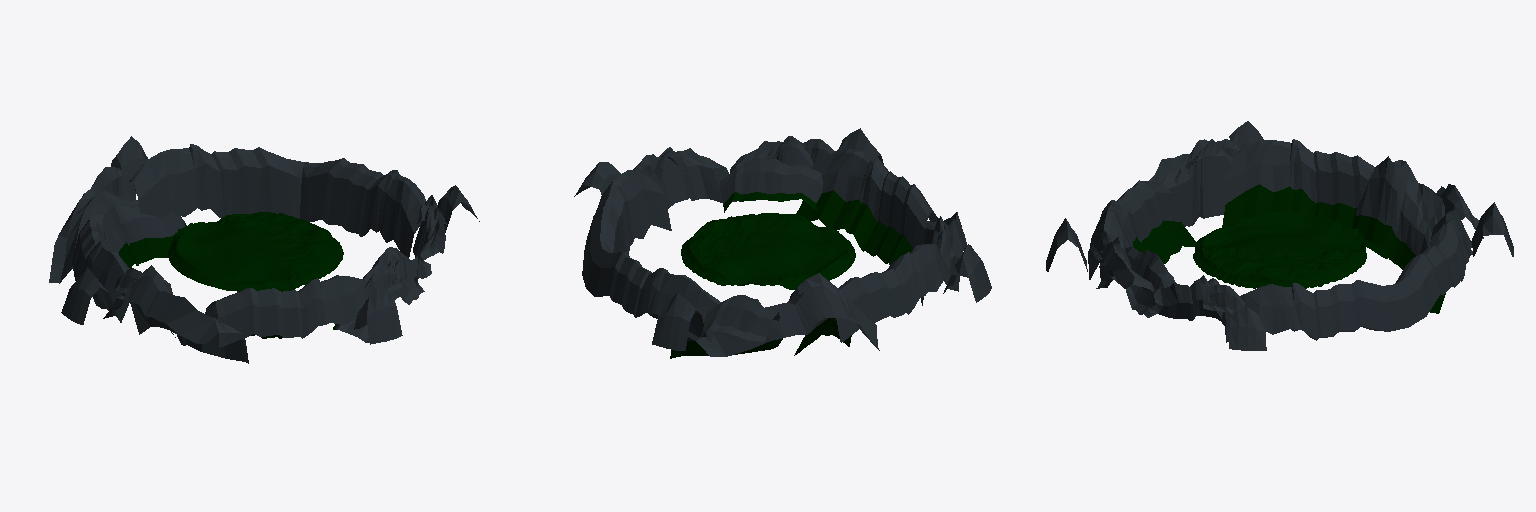
Rendered from terrain1.obj.
3 views of the same model, side by side, from view 1: azimuth 30°, elevation 25°; view 2: azimuth 150°, elevation 25°; view 3: azimuth 270°, elevation 25° (orthographic).
Parts seen in each view (by area): view 1: Circle; view 2: Circle; view 3: Circle.
Boxes of the visible parts, box(x1,y1,x2,y2) form: Circle: box(49, 136, 479, 363); Circle: box(574, 128, 991, 358); Circle: box(1046, 121, 1513, 350).
Size of the model in its own units: 55.94 by 13.17 by 56.23.